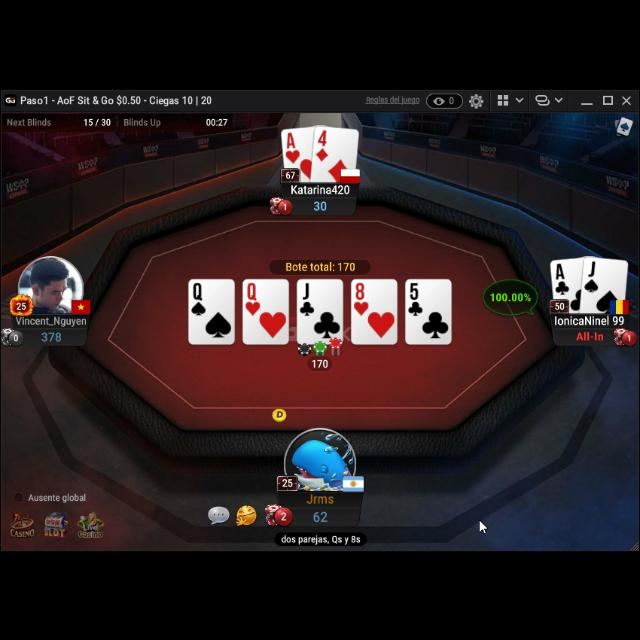4d: (314, 126, 331, 162)
5c: (408, 280, 424, 316)
6h: (352, 279, 370, 315)
8h: (354, 279, 371, 315)
Ac: (552, 260, 572, 294)
Ah: (284, 128, 302, 164)
Jc: (300, 280, 316, 316)
Js: (584, 256, 600, 292)
Qh: (244, 279, 262, 315)
Qs: (190, 278, 207, 316)
all_in_symbol: (574, 327, 606, 341)
bet_text: (310, 356, 330, 368)
dealer: (270, 404, 288, 421)
pot_text: (284, 258, 358, 272)
stack_text: (41, 328, 64, 342), (312, 508, 328, 522), (312, 196, 328, 210)
